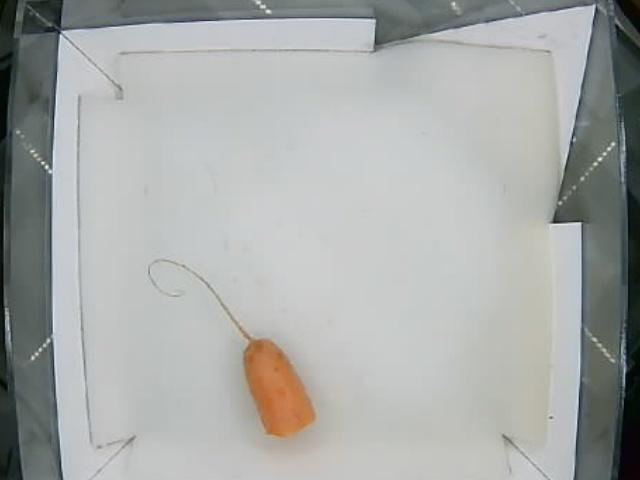Carrot: (245, 341, 314, 431)
